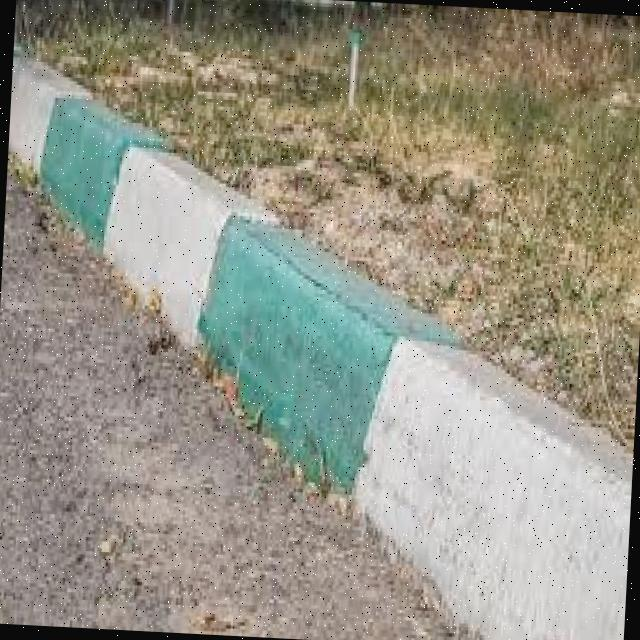curb: (286, 261, 640, 640), (110, 123, 328, 426), (5, 43, 137, 262)
